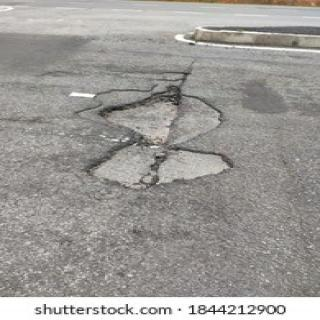pothole: (77, 84, 232, 189)
